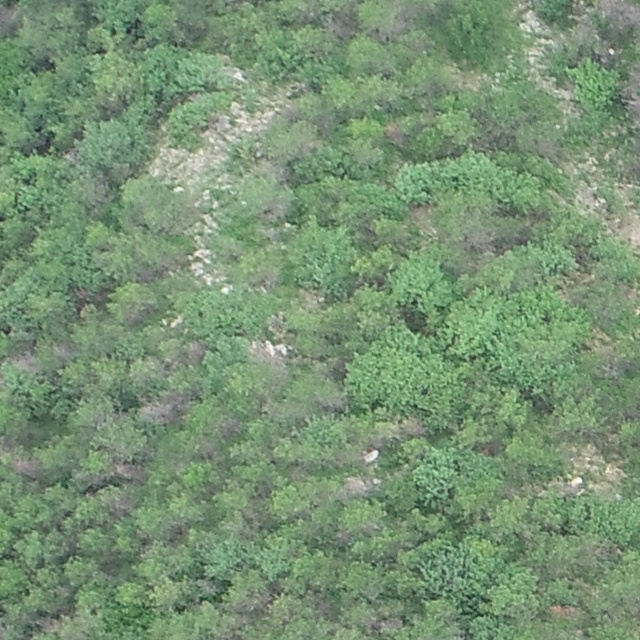unhealthy: (137, 391, 187, 424), (594, 0, 640, 32), (243, 337, 288, 367), (620, 65, 639, 130), (461, 225, 497, 254), (8, 347, 40, 373), (110, 460, 146, 483), (324, 13, 355, 39), (8, 455, 41, 479), (316, 390, 348, 414), (103, 492, 136, 515), (343, 474, 376, 497), (383, 119, 408, 148), (215, 414, 244, 438), (370, 613, 402, 634), (0, 1, 18, 37), (549, 602, 583, 621), (399, 415, 428, 436), (183, 338, 207, 362), (51, 342, 75, 361)
